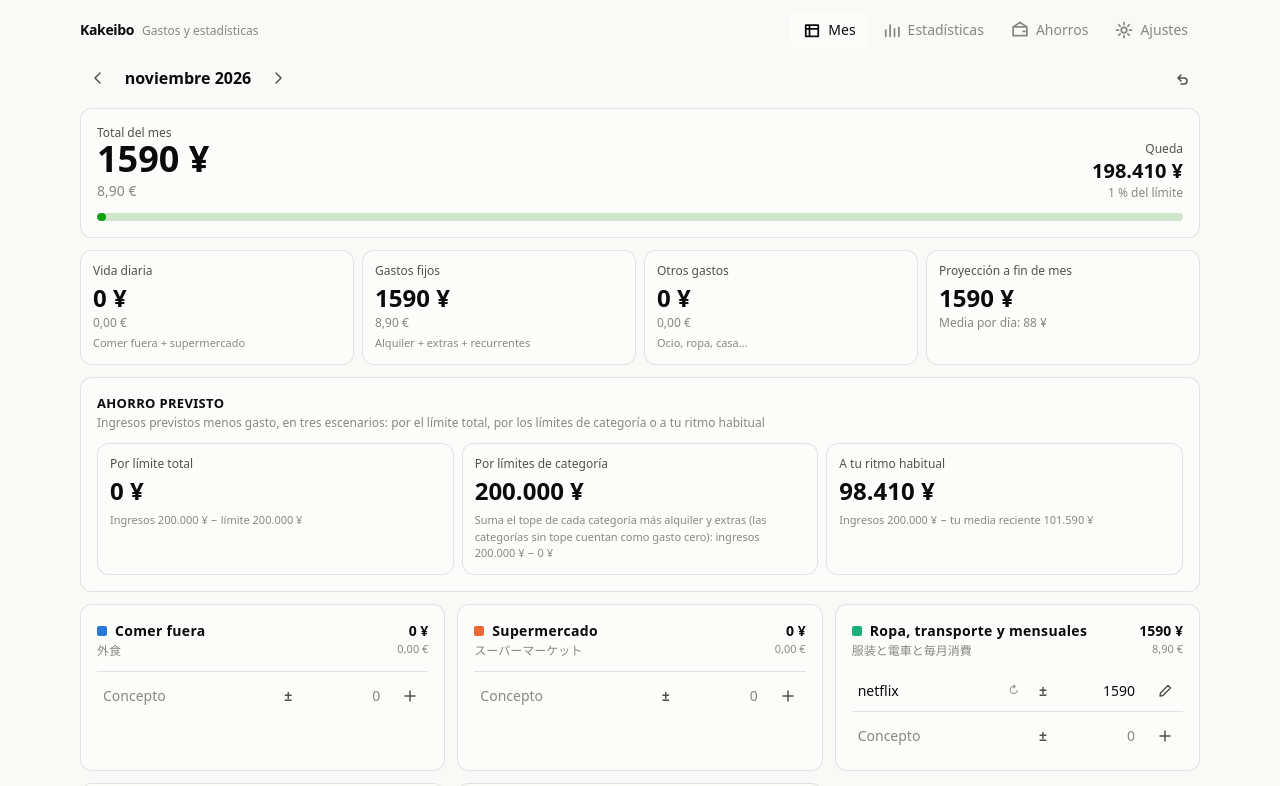
Test: la aplicacion › la meta en modo "ahorrar" desde el dia que se fijo enseña el progreso
Click the button "Ahorros" at (1049, 30), box [998,12,1100,48]
(page scrolled)
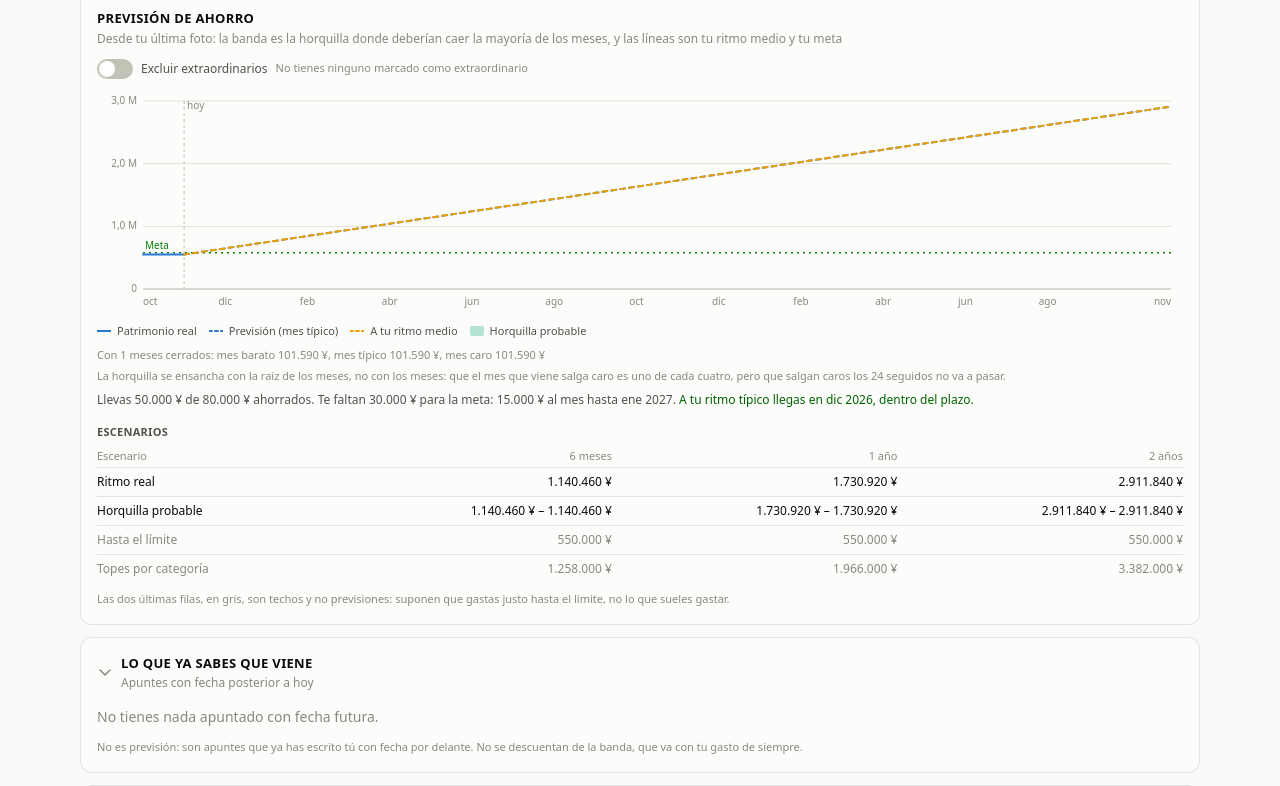
Result: the text "Llevas" is shown at [97,391,315,408]
Result: the text "Te faltan" is shown at [318,391,676,408]
